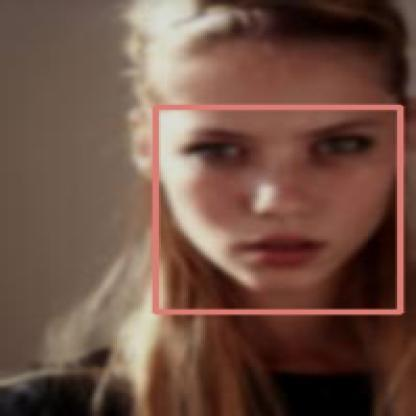without_mask: (155, 107, 399, 311)
